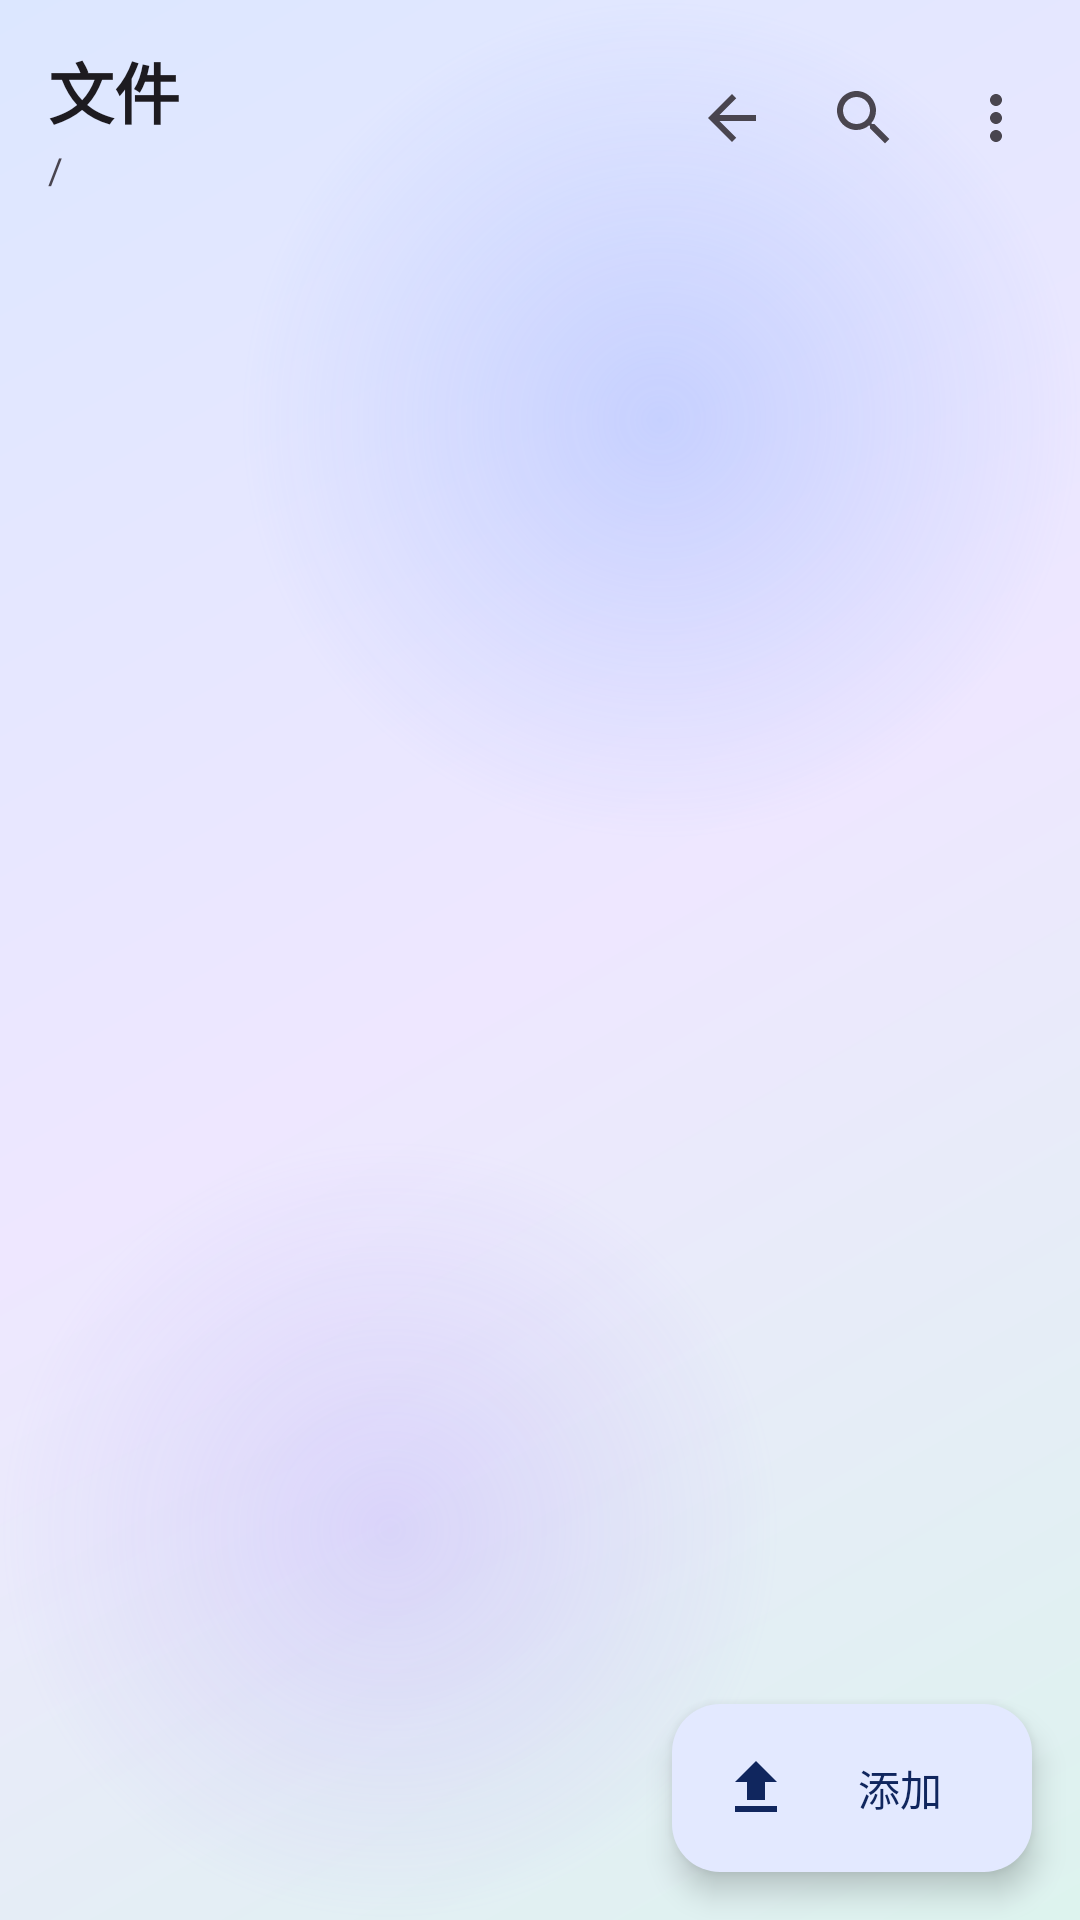

Locate icon controls on the screen. Image size 1080x1920, boxes as BBox(x1, y1, x2, y2).
搜索: BBox(837, 91, 889, 143)
更多: BBox(990, 94, 1002, 142)
返回上一级: BBox(708, 94, 756, 142)
